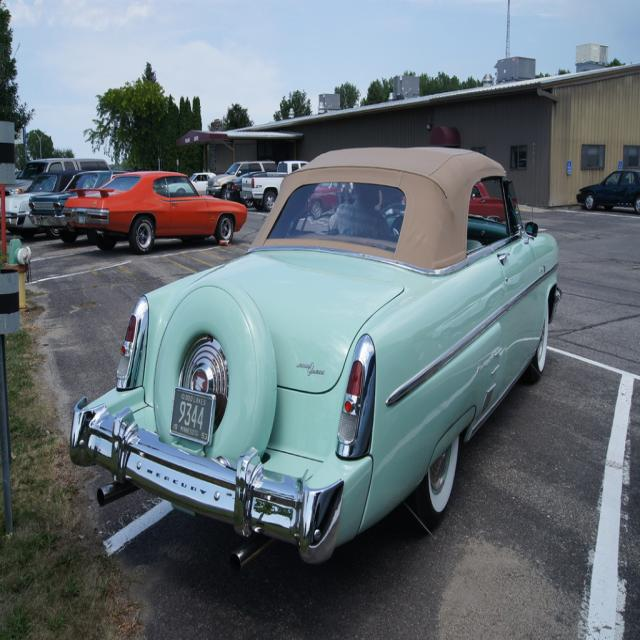car: (80, 148, 555, 572)
